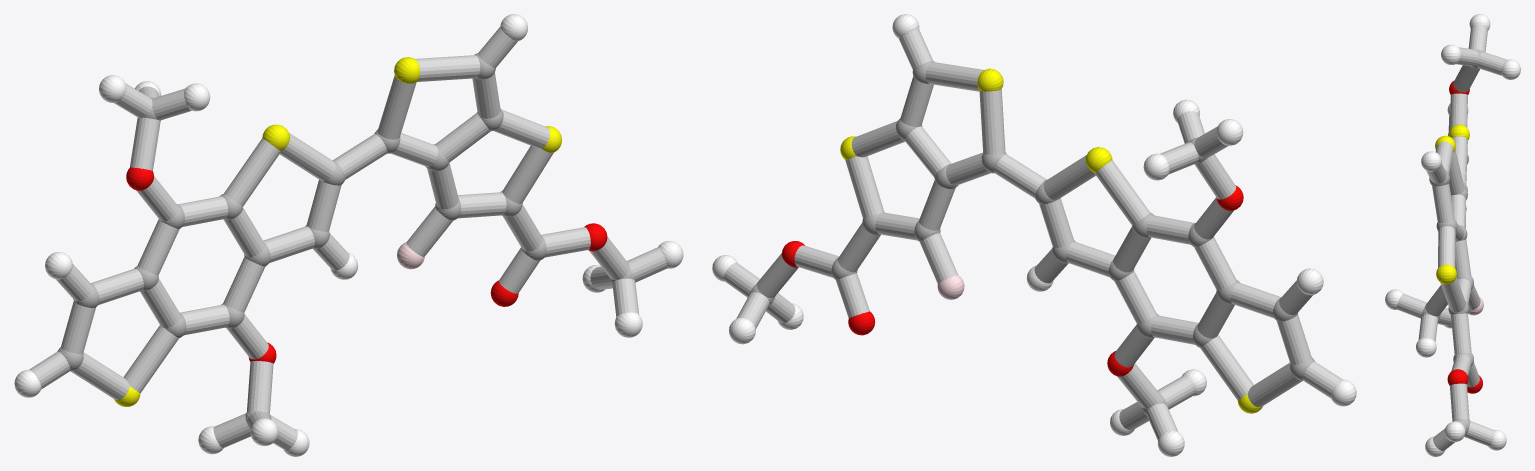
The model's file is color.glb.
3 views of the same model, side by side, from view 1: azimuth 30°, elevation 25°; view 2: azimuth 150°, elevation 25°; view 3: azimuth 270°, elevation 25° (orthographic). The views are drawn at different scales.
Parts seen in each view (by area): view 1: grp15205, grp8689, grp1, grp7241, grp13395; view 2: grp15205, grp8689, grp1, grp13395, grp7241; view 3: grp15205, grp8689, grp1, grp7241, grp13395.
Part boxes in pixels (x1,y1,x2,y2): grp15205: (29,27,667,450); grp8689: (14,14,683,456); grp1: (57,53,634,422); grp7241: (114,57,561,406); grp13395: (126,167,607,363); grp15205: (723,29,1342,440); grp8689: (712,14,1356,456); grp1: (749,60,1314,415); grp13395: (781,185,1243,376); grp7241: (840,68,1262,413); grp15205: (1397,25,1506,450); grp8689: (1385,14,1520,456); grp1: (1421,49,1483,434); grp7241: (1435,124,1469,284); grp13395: (1447,81,1482,393).
Bounding box in the file's own units: 16.43 × 9.17 × 3.91.
